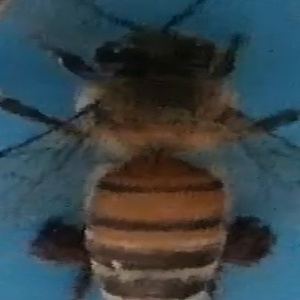bee: (17, 16, 293, 300)
